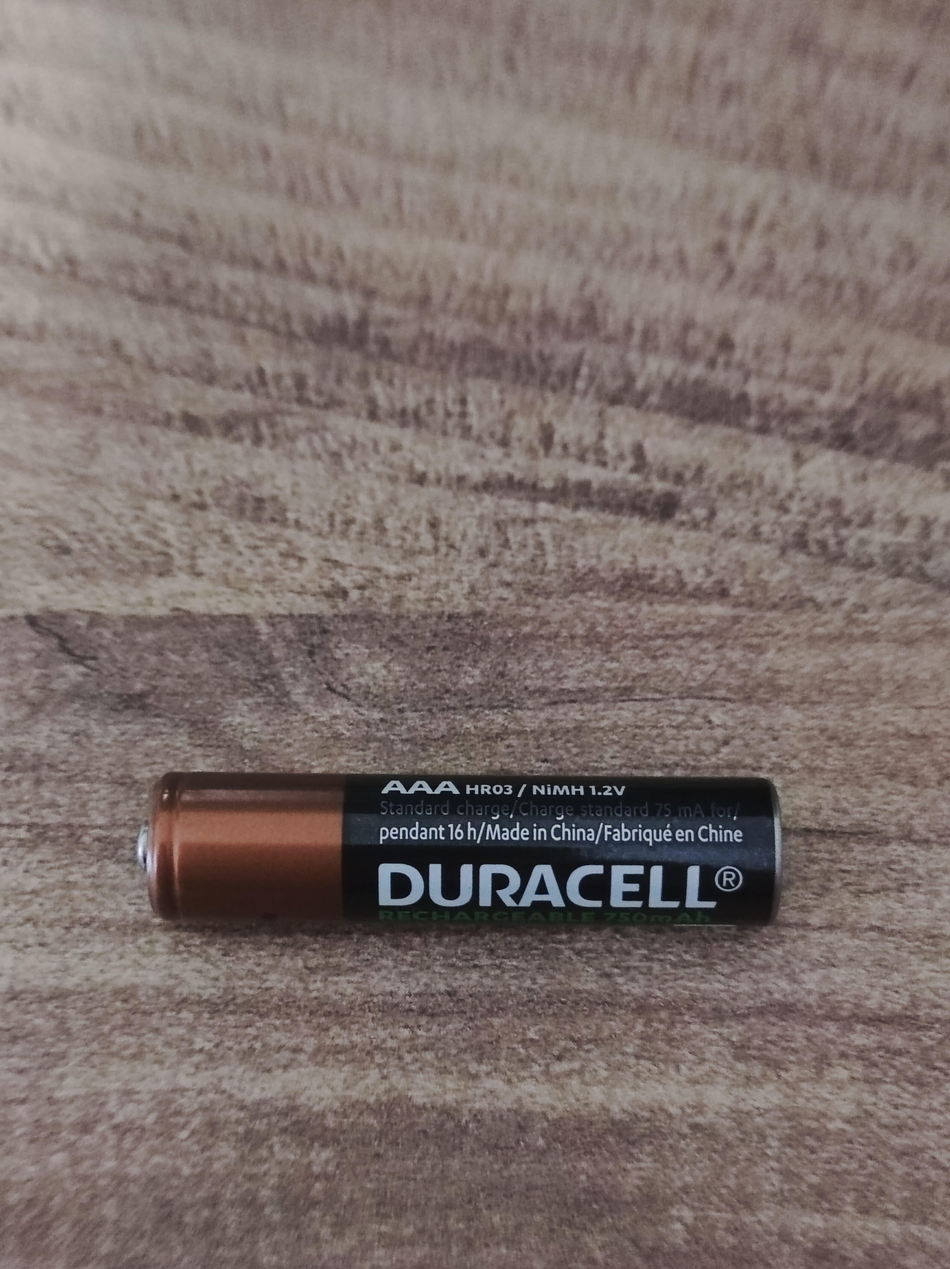AAA: (122, 768, 788, 938)
